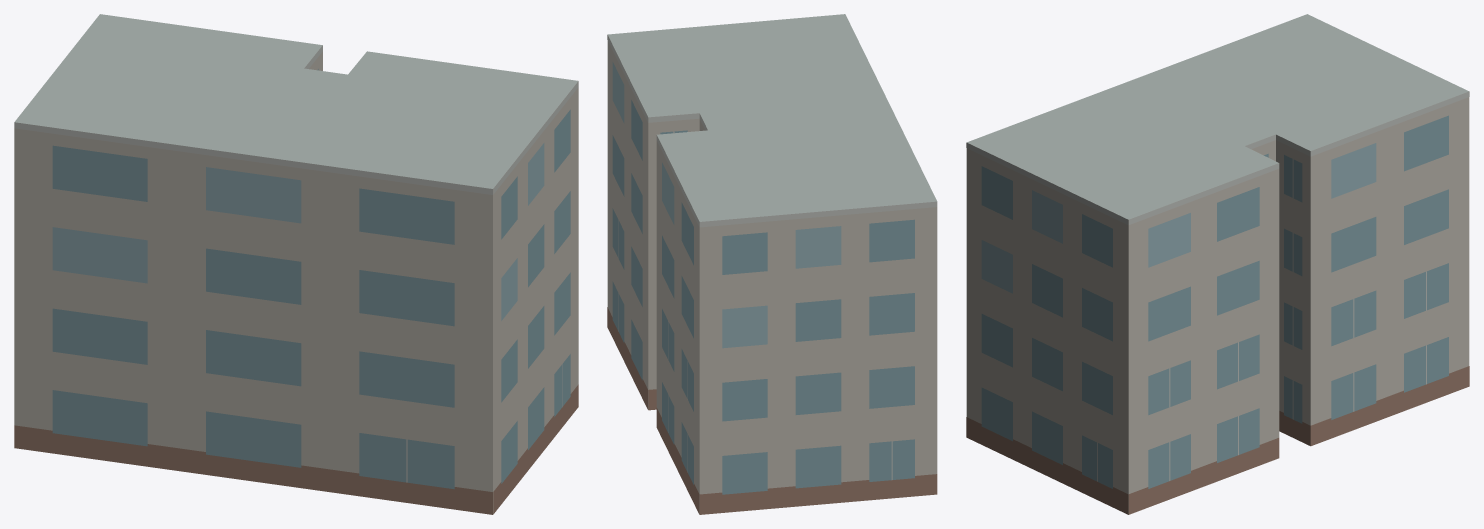
The model's file is survey-upis-33006386.glb.
3 views of the same model, side by side, from view 1: azimuth 30°, elevation 25°; view 2: azimuth 150°, elevation 25°; view 3: azimuth 270°, elevation 25° (orthographic). The views are drawn at different scales.
Parts seen in each view (by area): view 1: survey-upis-33006386.tmp; view 2: survey-upis-33006386.tmp; view 3: survey-upis-33006386.tmp.
Boxes of the visible parts, bbox=[...] form: survey-upis-33006386.tmp: bbox=[14, 14, 578, 514]; survey-upis-33006386.tmp: bbox=[607, 14, 937, 514]; survey-upis-33006386.tmp: bbox=[966, 14, 1469, 514].
Bounding box in the file's own units: 19.45 × 13 × 20.08.
